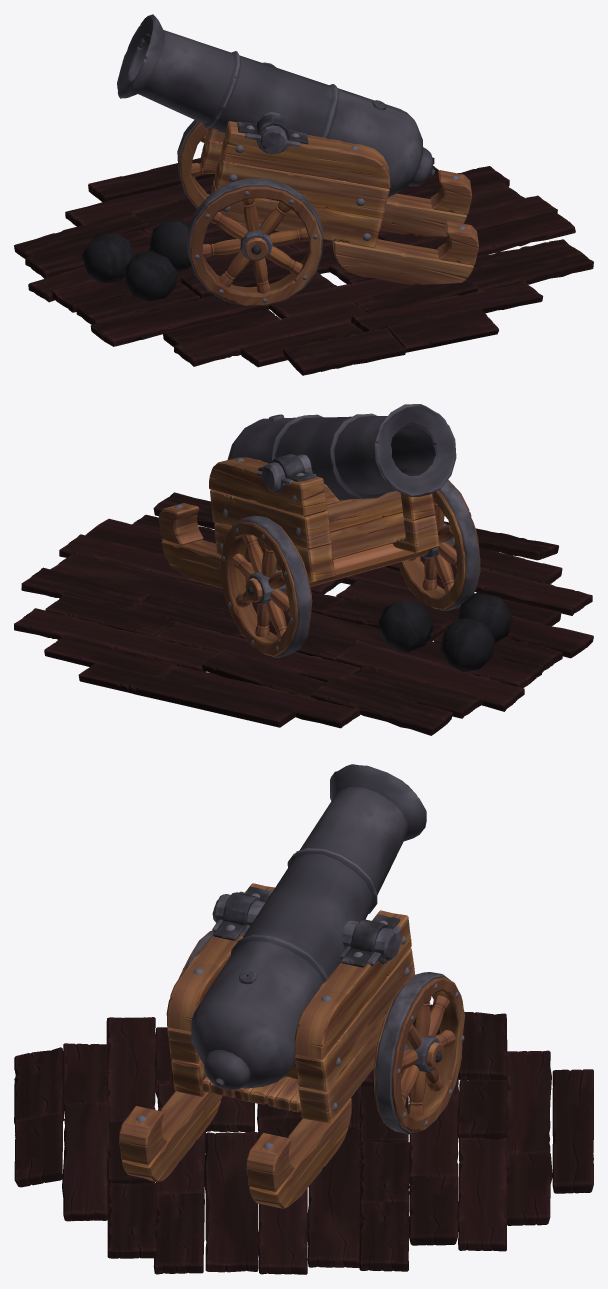
3 views of the same model, one above another, from view 1: azimuth 30°, elevation 25°; view 2: azimuth 150°, elevation 25°; view 3: azimuth 270°, elevation 25° (orthographic). The views are drawn at different scales.
Visible parts, largest first — view 1: 主体_Sphere.004_材质.002, m木板_Cube.002_Floor.001; view 2: m木板_Cube.002_Floor.001, 主体_Sphere.004_材质.002; view 3: m木板_Cube.002_Floor.001, 主体_Sphere.004_材质.002.
Boxes of the visible parts, x1,y1,x2,y2 form: 主体_Sphere.004_材质.002: [81, 14, 478, 305]; m木板_Cube.002_Floor.001: [14, 157, 593, 375]; m木板_Cube.002_Floor.001: [14, 492, 593, 735]; 主体_Sphere.004_材质.002: [159, 404, 512, 671]; m木板_Cube.002_Floor.001: [14, 1004, 593, 1274]; 主体_Sphere.004_材质.002: [118, 764, 465, 1208].
Size of the model in its own units: 8.28 by 4.38 by 7.39.
